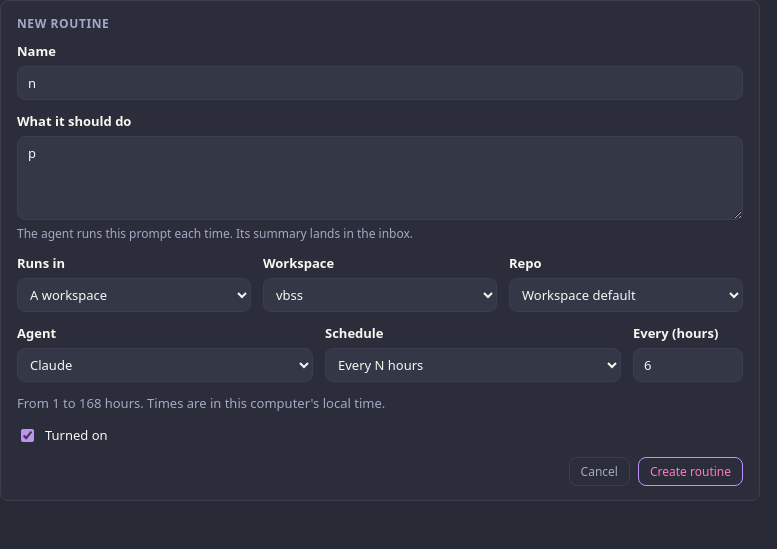
Scenario: an interval schedule shows the hours input with its hint and validates the range
Later steps or results of the test are not shown.
Expected: the text "From 1 to 168 hours. Times are in this computer's local time." is shown, [17,394,385,412]
Step 1. Replace the text in the field labelled "Every (hours)" with "500" → (688, 365), box [633,348,743,382]
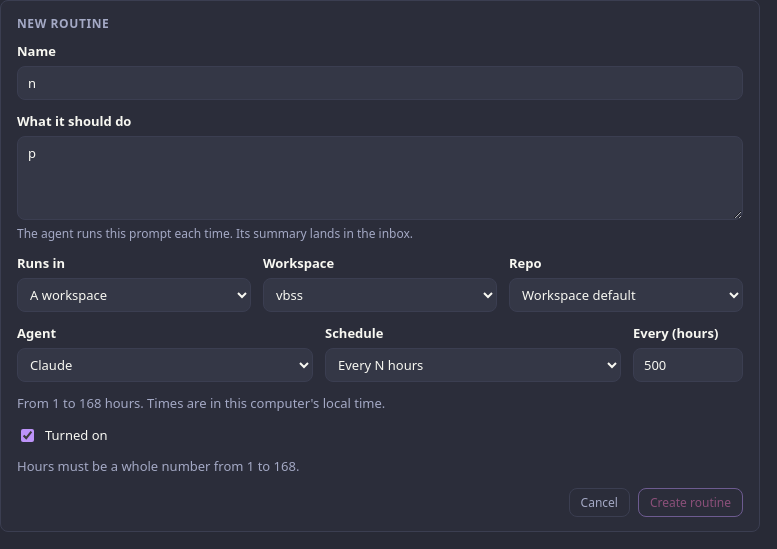
Now the text "Hours must be a whole number from 1 to 168." is shown, box [17,457,299,475]
Now the button "Create routine" is disabled, box [638,488,743,517]
